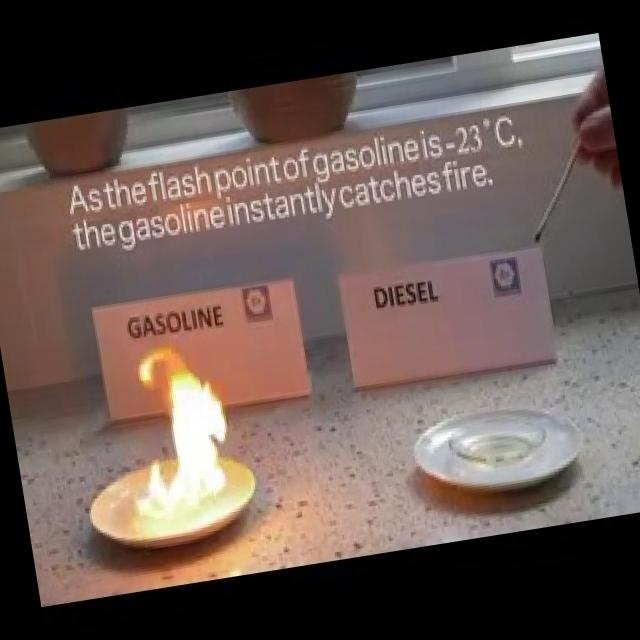Fire: (100, 331, 247, 531)
